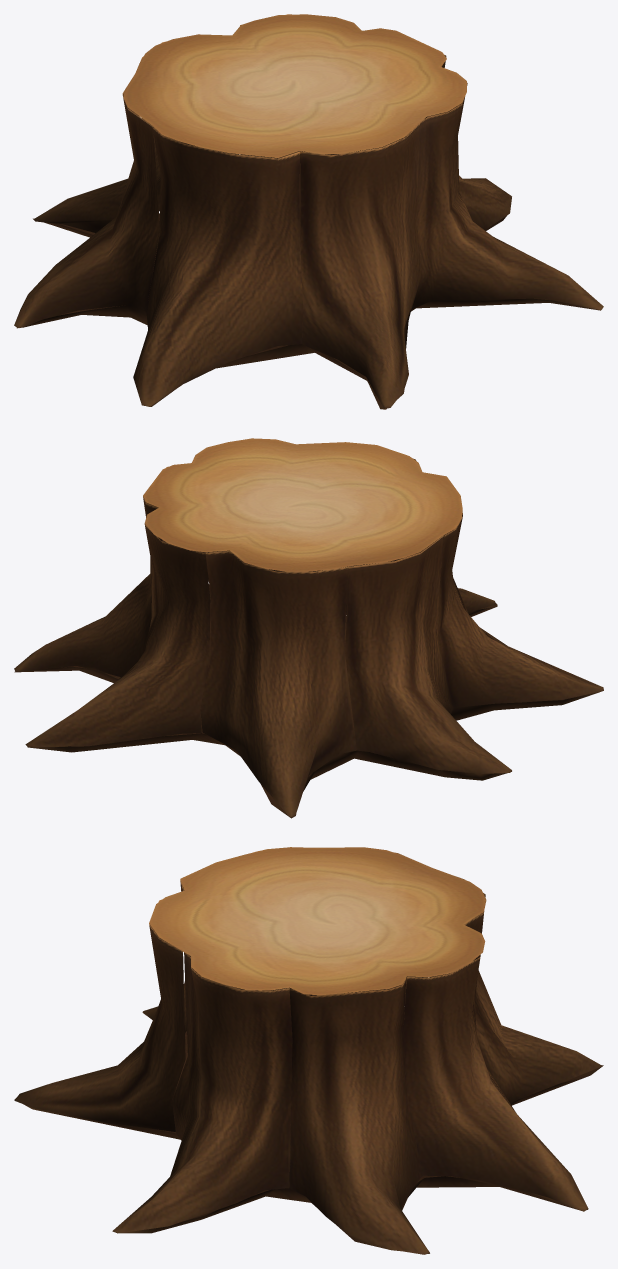
The model's file is Bark01.fbx.
3 renders of one model, top to bottom at view 1: azimuth 30°, elevation 25°; view 2: azimuth 150°, elevation 25°; view 3: azimuth 270°, elevation 25°, orthographic. The views are drawn at different scales.
Visible parts, largest first — view 1: Bark01; view 2: Bark01; view 3: Bark01.
Part boxes in pixels (box(x1,y1,x2,y2)): Bark01: box(14, 14, 603, 409); Bark01: box(14, 438, 603, 818); Bark01: box(14, 847, 603, 1254).
Size of the model in its own units: 750 by 292 by 736.
1 material, 1 textured.
